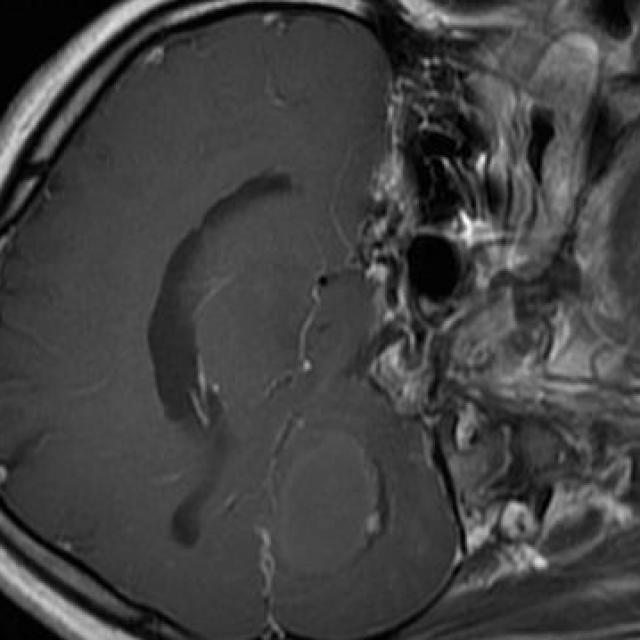glioma: (273, 428, 389, 576)
